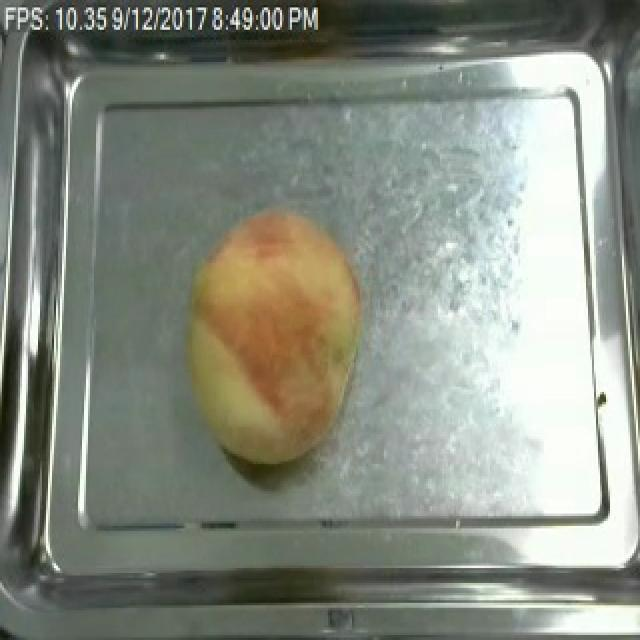Fruit: (174, 211, 368, 469)
